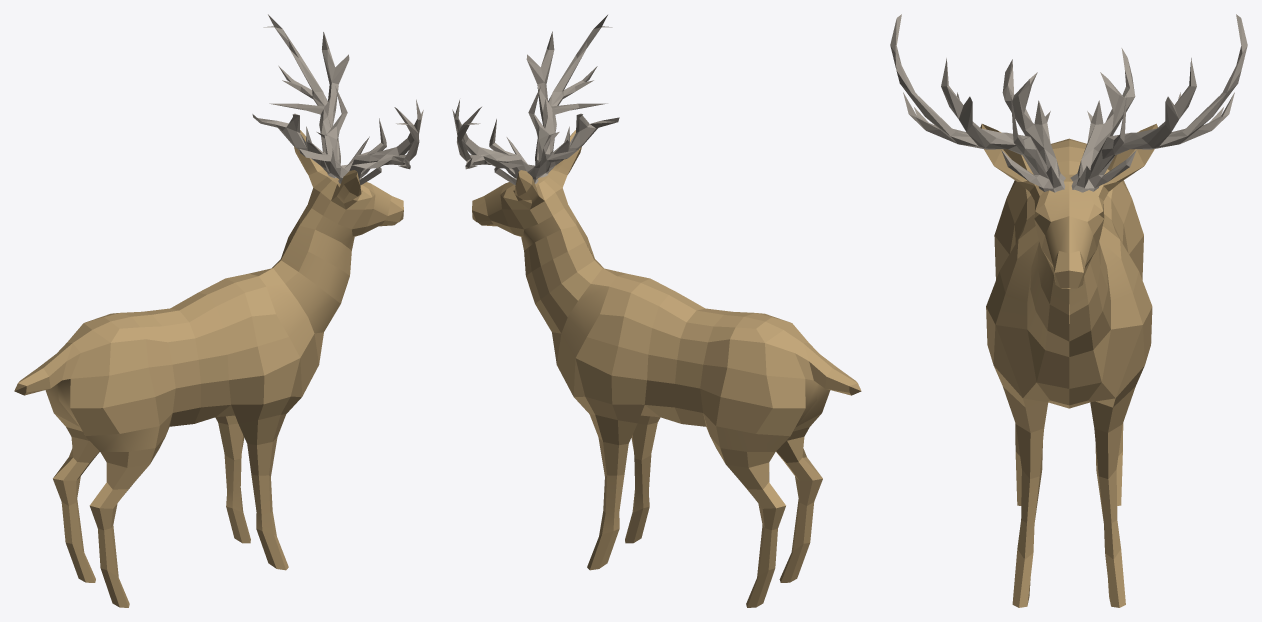
Rendered from deer.fbx.
3 views of the same model, side by side, from view 1: azimuth 30°, elevation 25°; view 2: azimuth 150°, elevation 25°; view 3: azimuth 270°, elevation 25° (orthographic). The views are drawn at different scales.
Visible parts, largest first — view 1: deer:deer:polySurface7, deer:polySurface3; view 2: deer:deer:polySurface7, deer:polySurface3; view 3: deer:deer:polySurface7, deer:polySurface3.
Boxes of the visible parts, x1=… form: deer:deer:polySurface7: x1=14, y1=130, x2=403, y2=607; deer:polySurface3: x1=252, y1=14, x2=423, y2=185; deer:deer:polySurface7: x1=472, y1=130, x2=861, y2=607; deer:polySurface3: x1=452, y1=15, x2=619, y2=185; deer:deer:polySurface7: x1=980, y1=123, x2=1157, y2=607; deer:polySurface3: x1=890, y1=14, x2=1247, y2=192.
Bounding box in the file's own units: 21.15 × 12.71 × 24.89.
